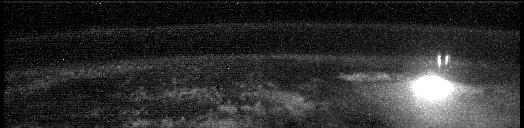positive: (432, 49, 452, 73)
